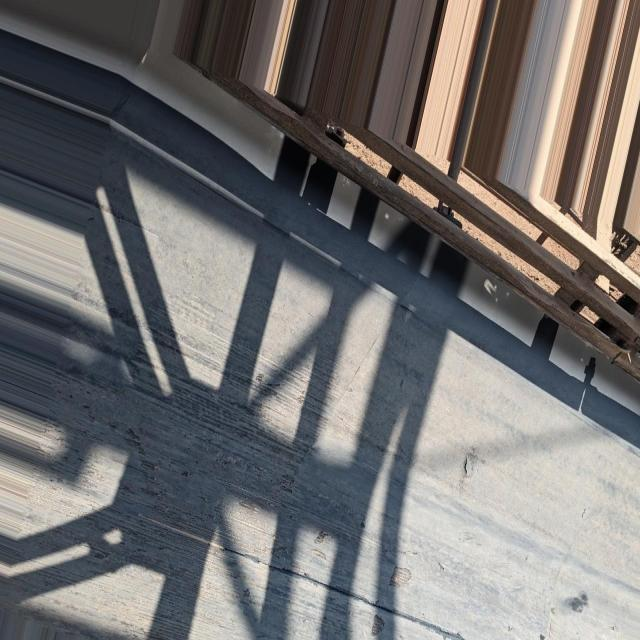Impact Damage: (390, 559, 414, 591), (367, 612, 388, 638)
Tear: (138, 512, 480, 640), (460, 452, 470, 476), (395, 376, 406, 394)
